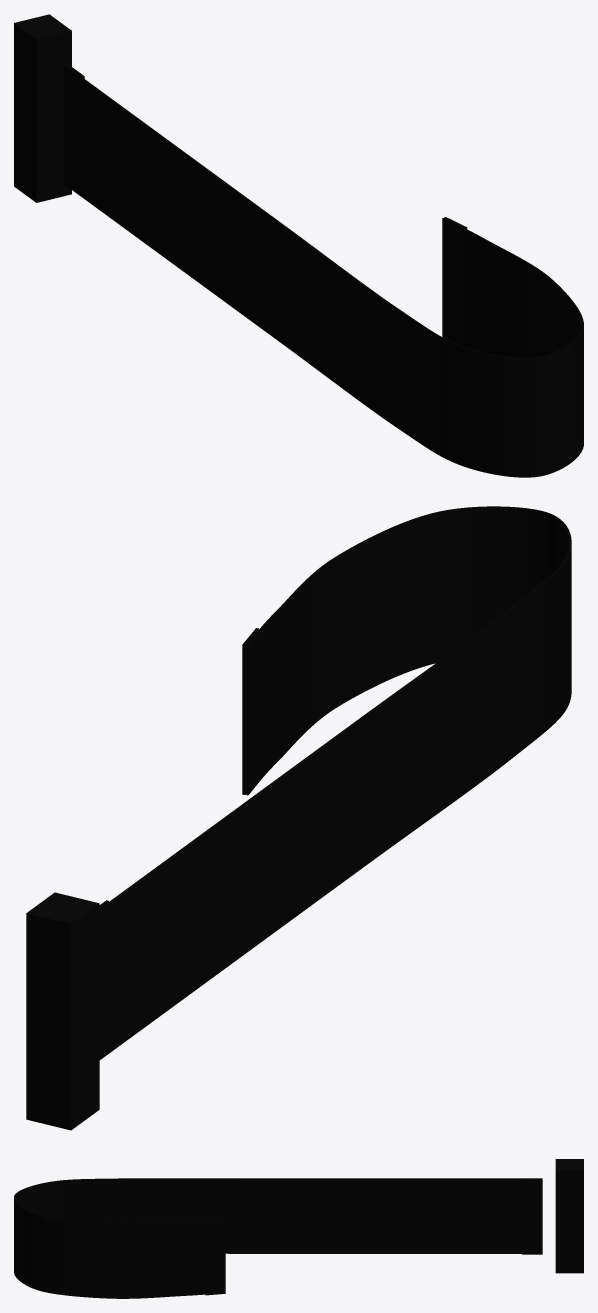
Rendered from csi_ribbon_vis.obj.
3 views of the same model, one above another, from view 1: azimuth 30°, elevation 25°; view 2: azimuth 150°, elevation 25°; view 3: azimuth 270°, elevation 25° (orthographic). The views are drawn at different scales.
Bounding box in the file's own units: 0.0232 × 0.022 × 0.1101.
1 material, 1 textured.
